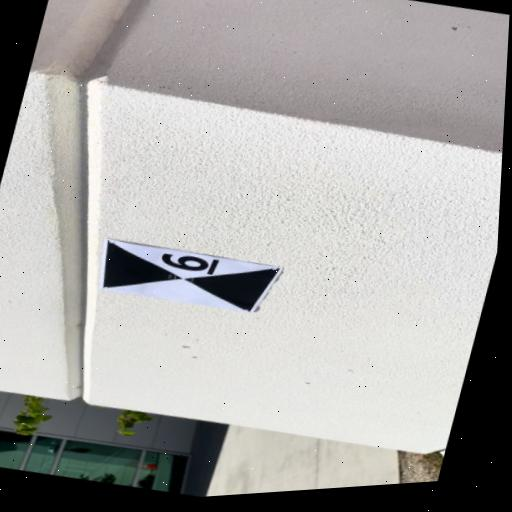target6: (100, 237, 282, 312)
